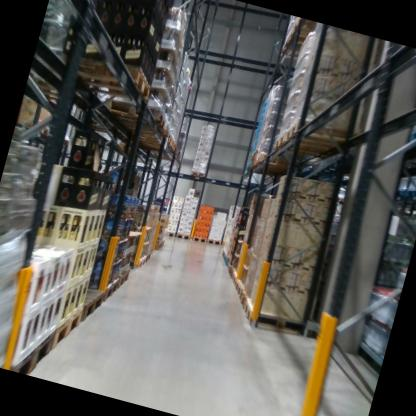pallet: (47, 37, 161, 105), (240, 287, 325, 347), (284, 110, 360, 158), (96, 95, 175, 140), (8, 317, 57, 378), (271, 128, 338, 166), (111, 112, 177, 150), (47, 300, 83, 357), (68, 279, 105, 333), (252, 145, 299, 179), (278, 32, 326, 65), (138, 146, 184, 165), (98, 271, 120, 306), (388, 181, 409, 207), (235, 287, 254, 314), (234, 277, 255, 300), (127, 251, 147, 272), (115, 266, 131, 292), (402, 185, 416, 208), (189, 165, 209, 181), (205, 231, 223, 248), (173, 230, 191, 243), (228, 271, 240, 290), (191, 231, 208, 244), (168, 135, 178, 155), (227, 262, 238, 279), (172, 142, 182, 159), (144, 250, 153, 265), (165, 228, 176, 239), (250, 148, 260, 159), (225, 262, 232, 272)
